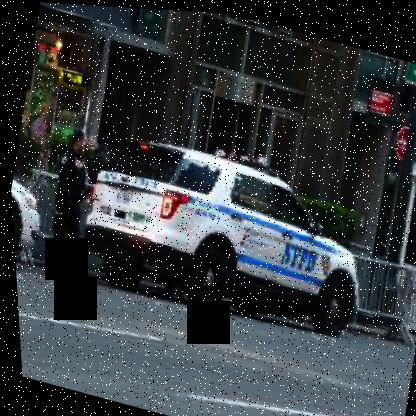emergency: (46, 106, 403, 370)
